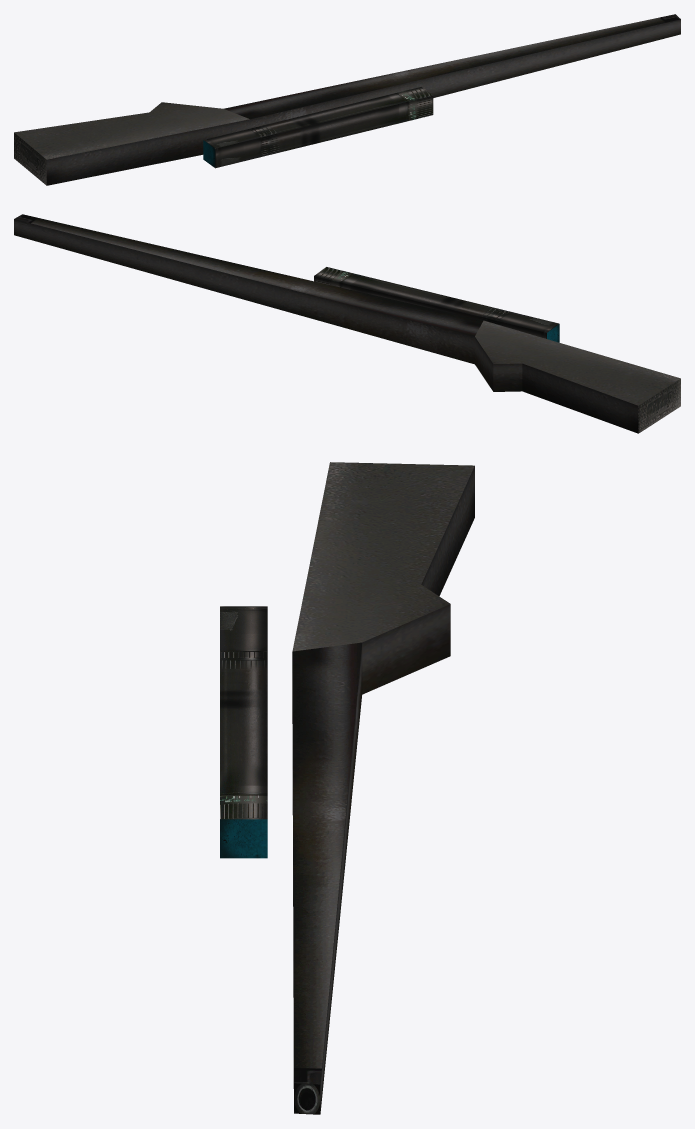
File: weapon_remington700_LOD2.obj
The picture shows the model from 3 angles, top to bottom: view 1: azimuth 30°, elevation 25°; view 2: azimuth 150°, elevation 25°; view 3: azimuth 270°, elevation 25°; orthographic projection. The views are drawn at different scales.
Parts seen in each view (by area): view 1: mtl_weapon_remington700; view 2: mtl_weapon_remington700; view 3: mtl_weapon_remington700, mtl_weapon_acog_alpha.
Boxes of the visible parts, bbox=[...] form: mtl_weapon_remington700: bbox=[14, 14, 680, 185]; mtl_weapon_remington700: bbox=[14, 214, 680, 433]; mtl_weapon_remington700: bbox=[220, 462, 474, 1114]; mtl_weapon_acog_alpha: bbox=[220, 819, 267, 858].
Bounding box in the file's own units: 109 × 4.34 × 19.22.
